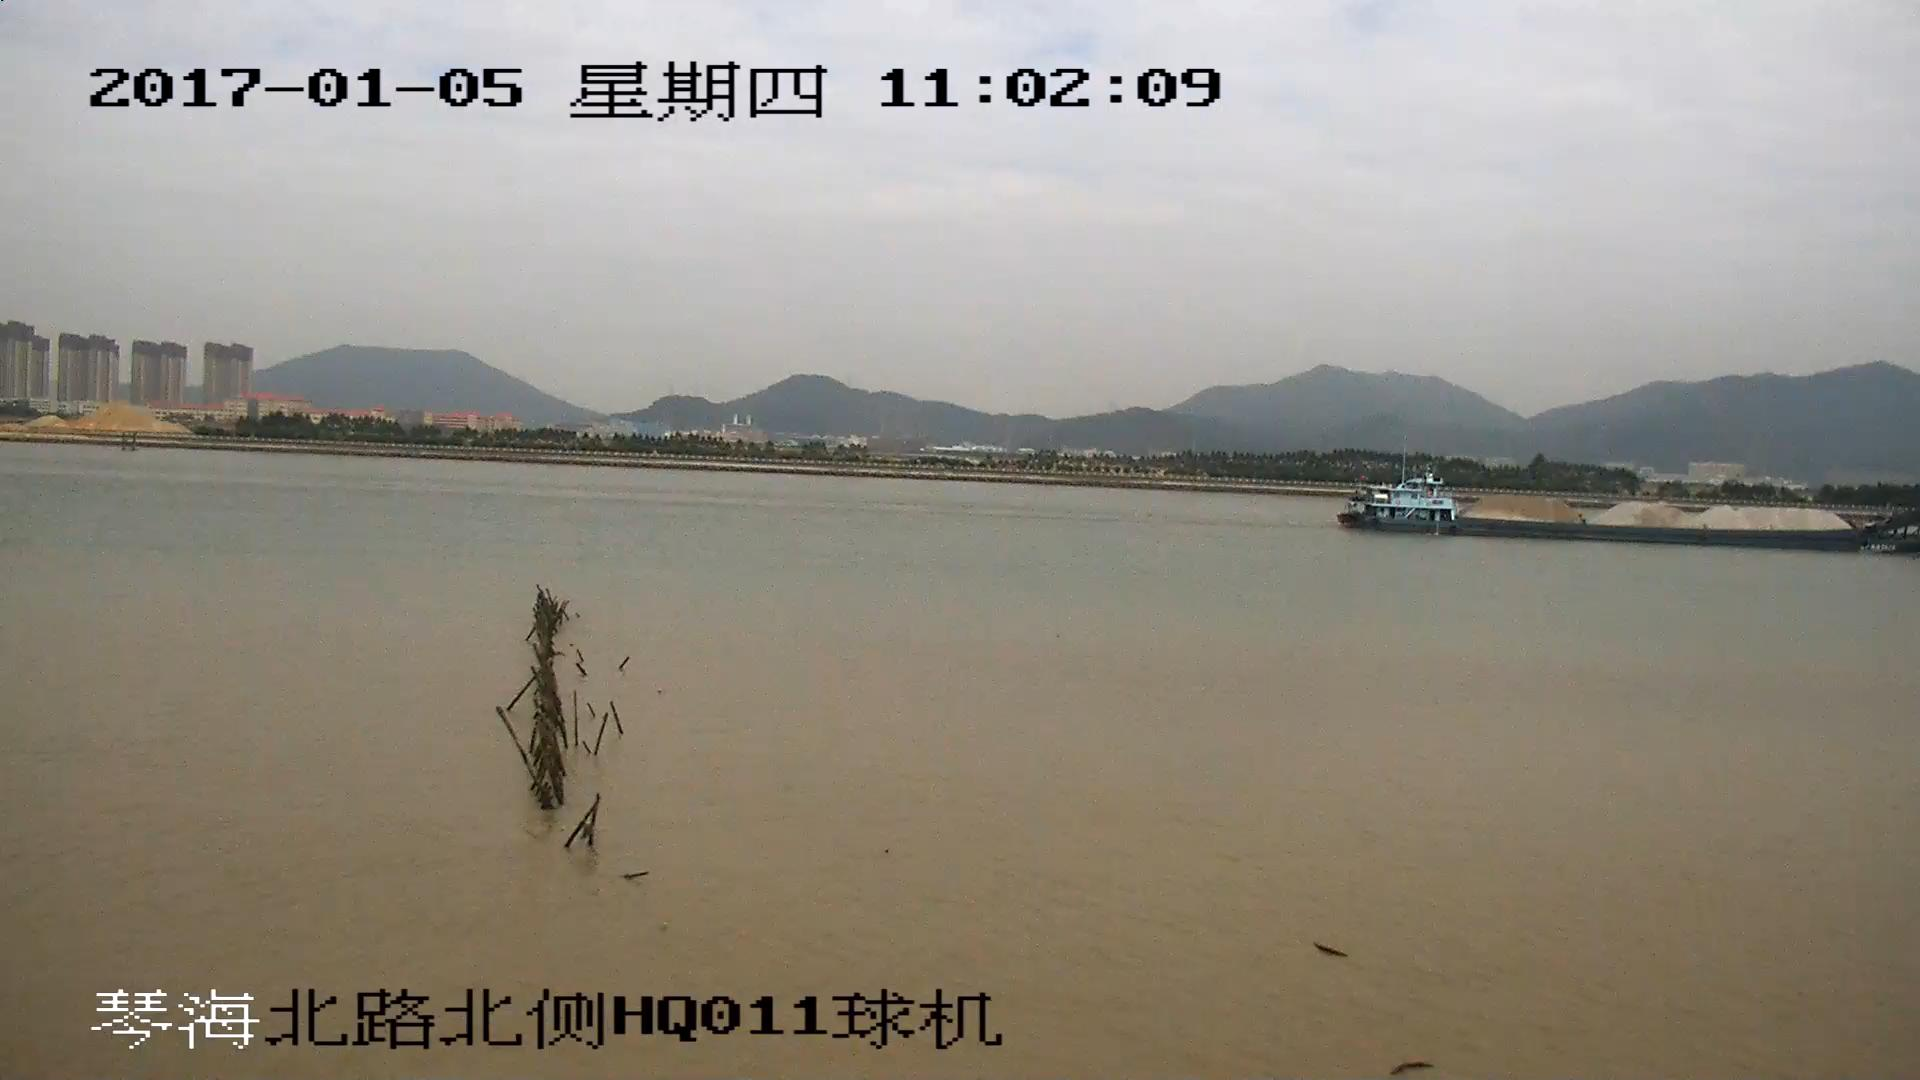ore carrier: (1344, 480, 1920, 554)
